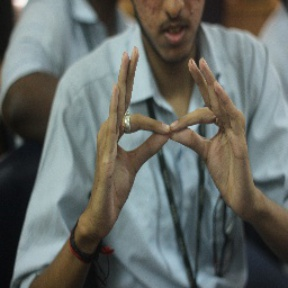B: (106, 101, 235, 175)
